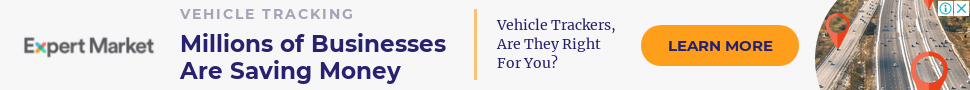fake_button: (641, 22, 805, 75)
